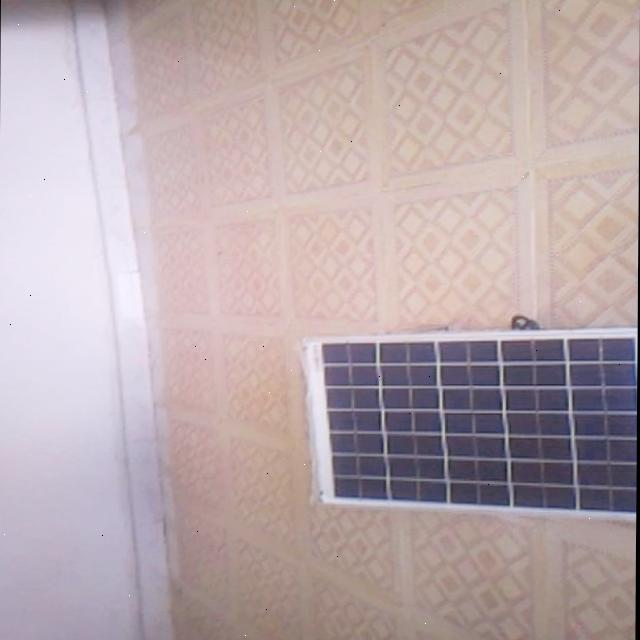Normal Solar Panel: (303, 328, 638, 518)
